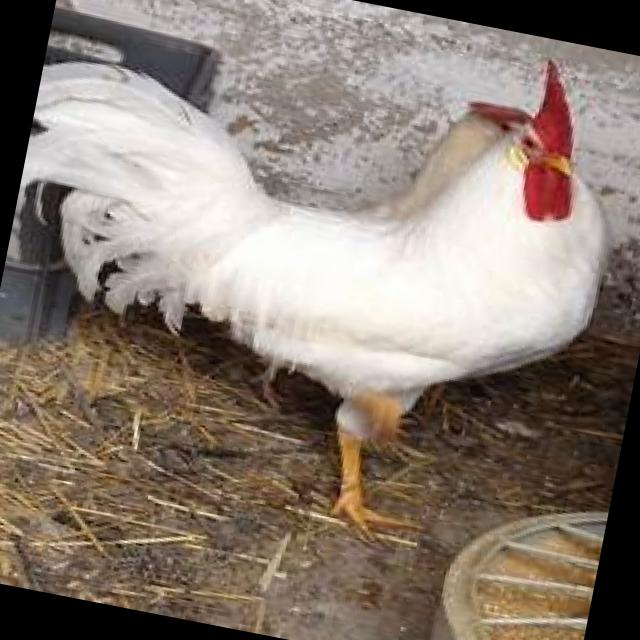animal: (0, 0, 640, 552)
